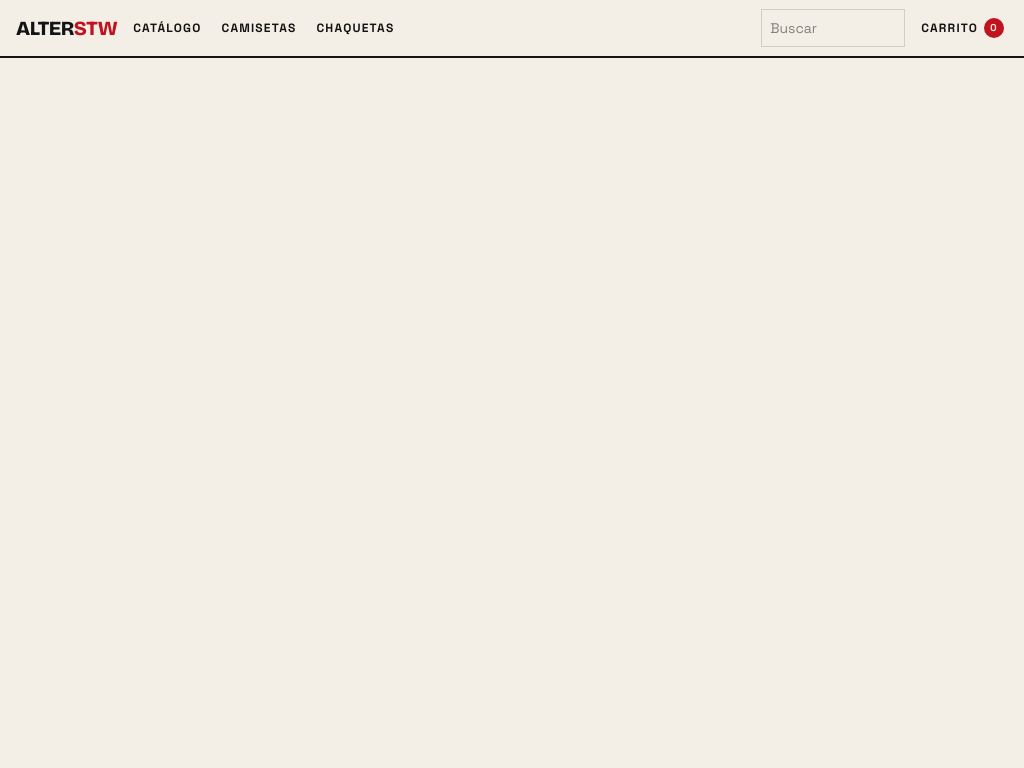
Test: Header › opens the cart sheet from the masthead badge
Click the button with aria-label "Carrito (0 productos)".
click(963, 28)  # box top-left (917, 6), bottom-right (1008, 50)
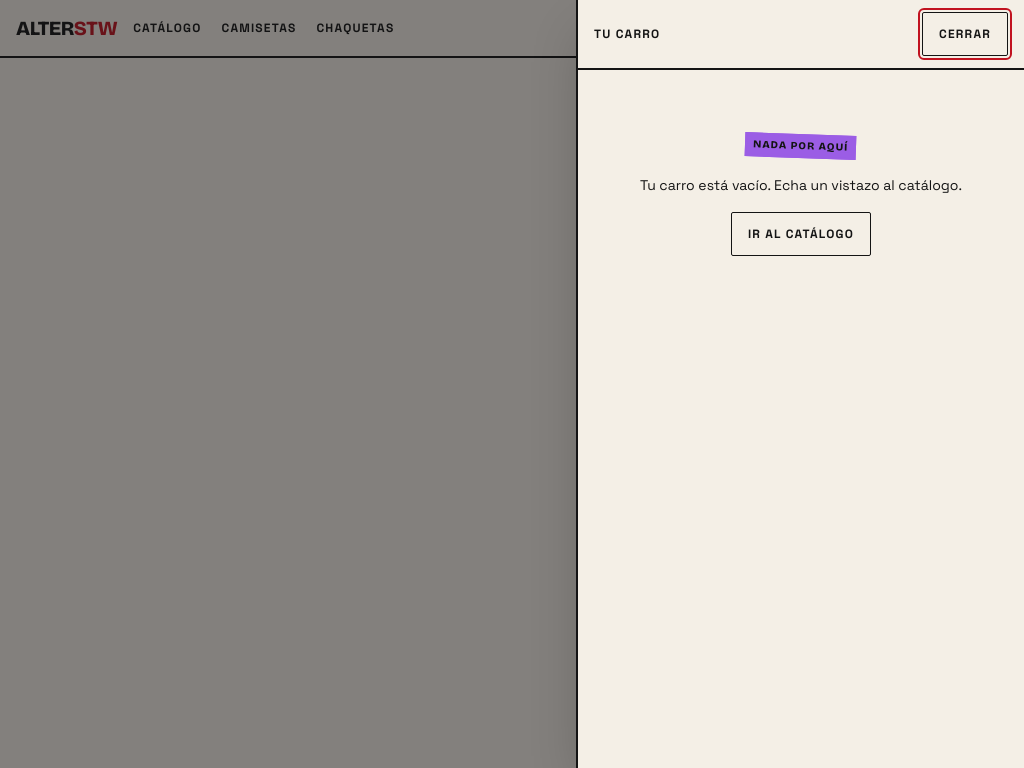
expect the dialog named "Carrito" is shown: met, box top-left (576, 0), bottom-right (1023, 767)
